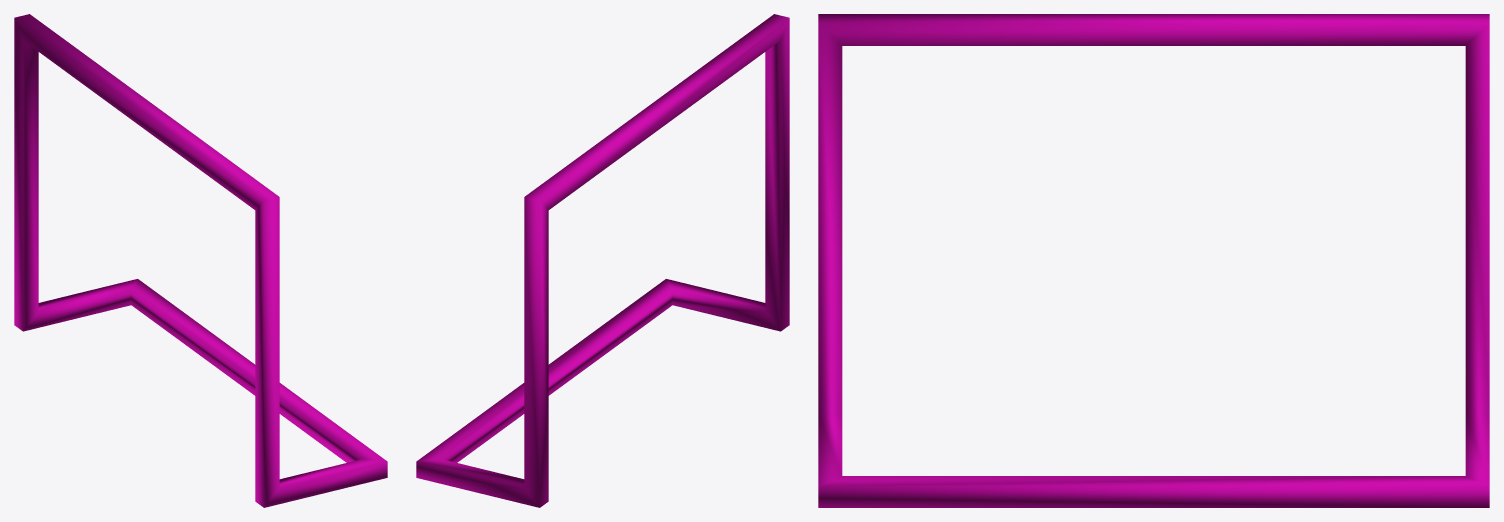
The model's file is Goalsopponent.002.dae.
3 renders of one model, left to right at view 1: azimuth 30°, elevation 25°; view 2: azimuth 150°, elevation 25°; view 3: azimuth 270°, elevation 25°, orthographic. The views are drawn at different scales.
Parts seen in each view (by area): view 1: visual_0_field_1_4; view 2: visual_0_field_1_4; view 3: visual_0_field_1_4.
Part boxes in pixels (x1,y1,x2,y2): visual_0_field_1_4: [14, 14, 387, 507]; visual_0_field_1_4: [416, 14, 789, 507]; visual_0_field_1_4: [818, 14, 1489, 507].
Size of the model in its own units: 0.8 by 2.8 by 1.9.
